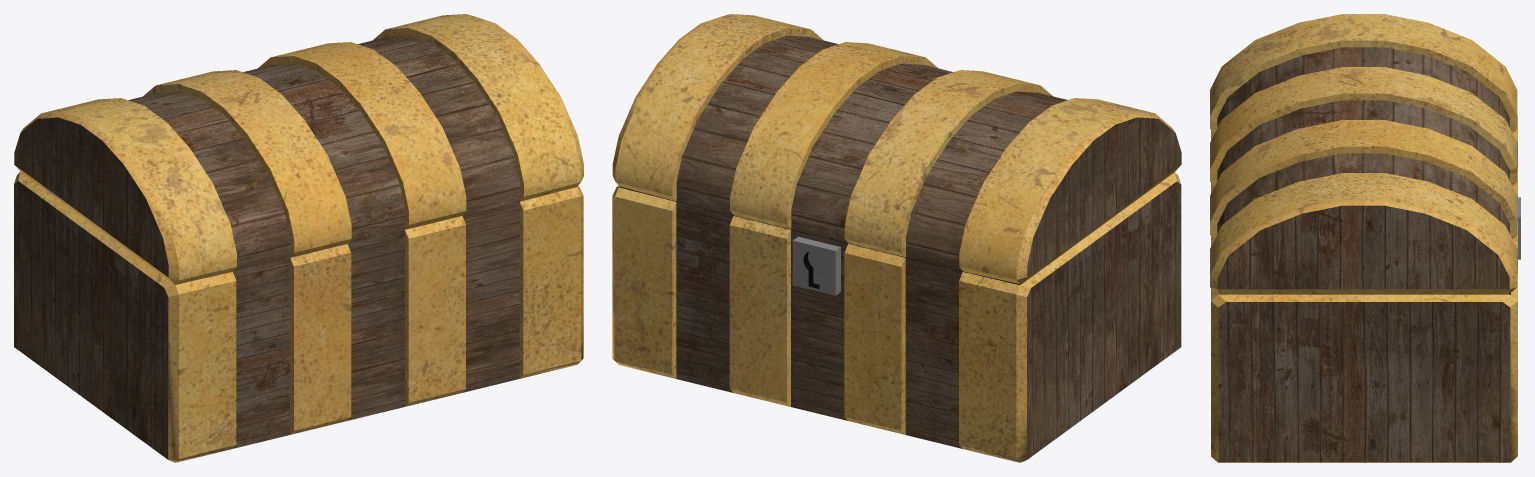
File: Chest.fbx
The picture shows the model from 3 angles, left to right: view 1: azimuth 30°, elevation 25°; view 2: azimuth 150°, elevation 25°; view 3: azimuth 270°, elevation 25°; orthographic projection. The views are drawn at different scales.
Visible parts, largest first — view 1: Base, Lid; view 2: Base, Lid, Lock; view 3: Lid, Base.
Boxes of the visible parts, x1,y1,x2,y2 form: Base: [14, 171, 583, 462]; Lid: [14, 14, 583, 284]; Base: [612, 172, 1181, 462]; Lid: [612, 14, 1181, 284]; Lock: [792, 236, 840, 295]; Lid: [1210, 14, 1517, 294]; Base: [1211, 115, 1517, 462].
Bounding box in the file's own units: 77.5 × 49.69 × 53.12.
Materials: 6 (2 with a texture image).
